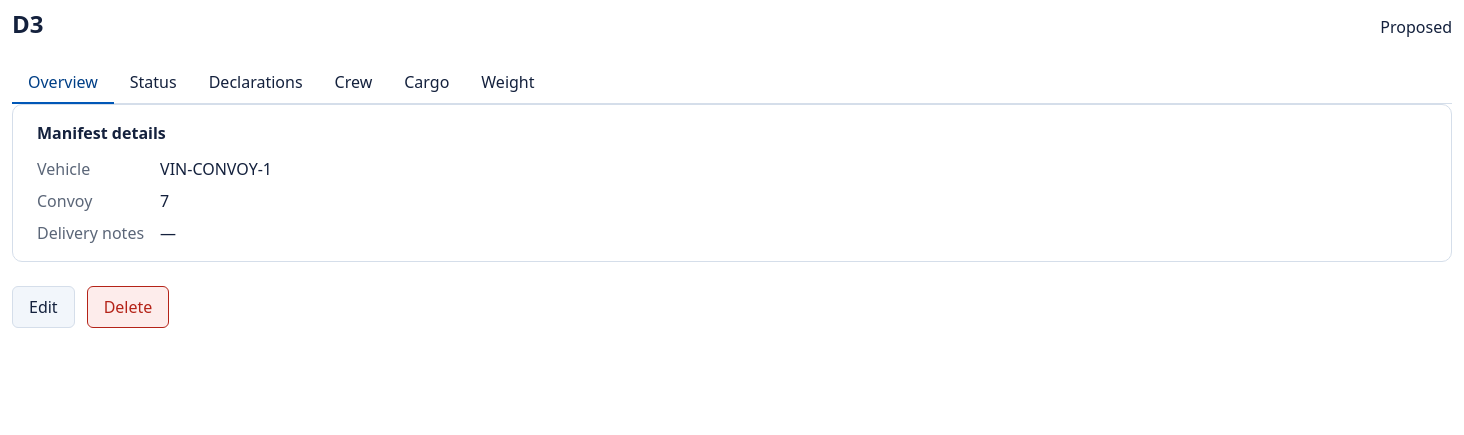
the tabs open the Status, Crew, Cargo and Weight panels
This screenshot has width=1464, height=435.
Click the tab "Status".
click(153, 83)  # box [114, 62, 193, 104]
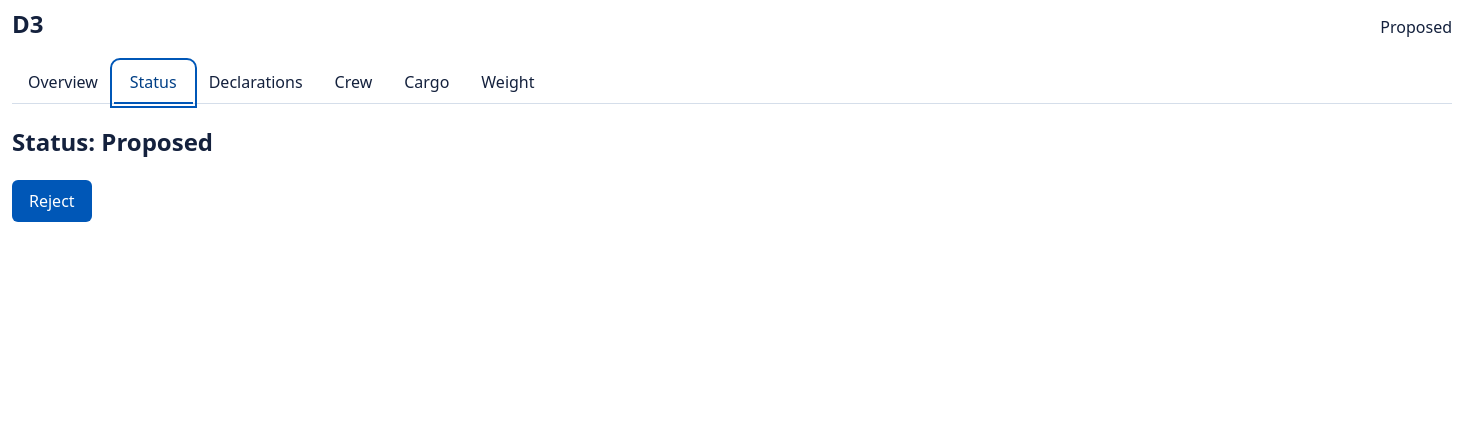
Result: the heading "Status: Proposed" is shown at [12, 125, 213, 158]
Click the tab "Crew".
click(353, 83)  # box [319, 62, 388, 104]
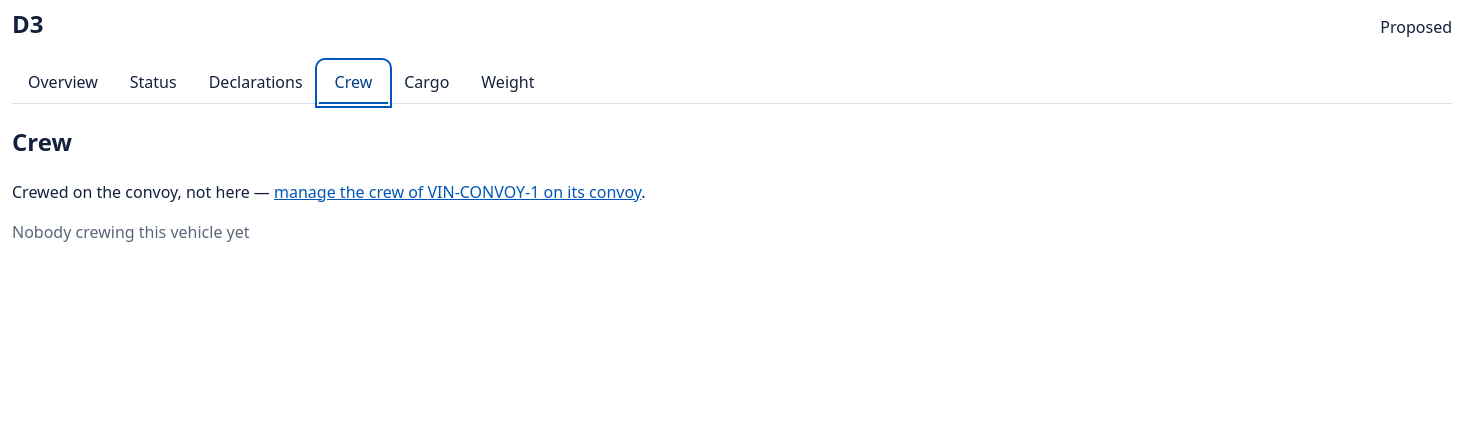
Result: the heading "Crew" is shown at [12, 125, 72, 158]
Click the tab "Cargo".
click(427, 83)  # box [388, 62, 465, 104]
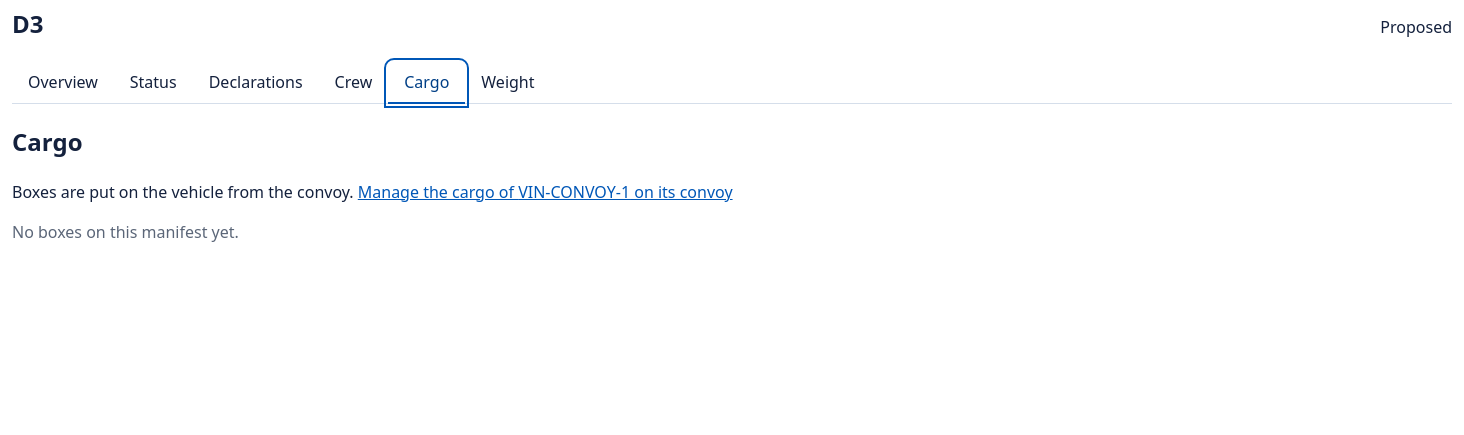
Result: the heading "Cargo" is shown at [12, 125, 82, 158]
Click the tab "Weight".
click(508, 83)  # box [465, 62, 550, 104]
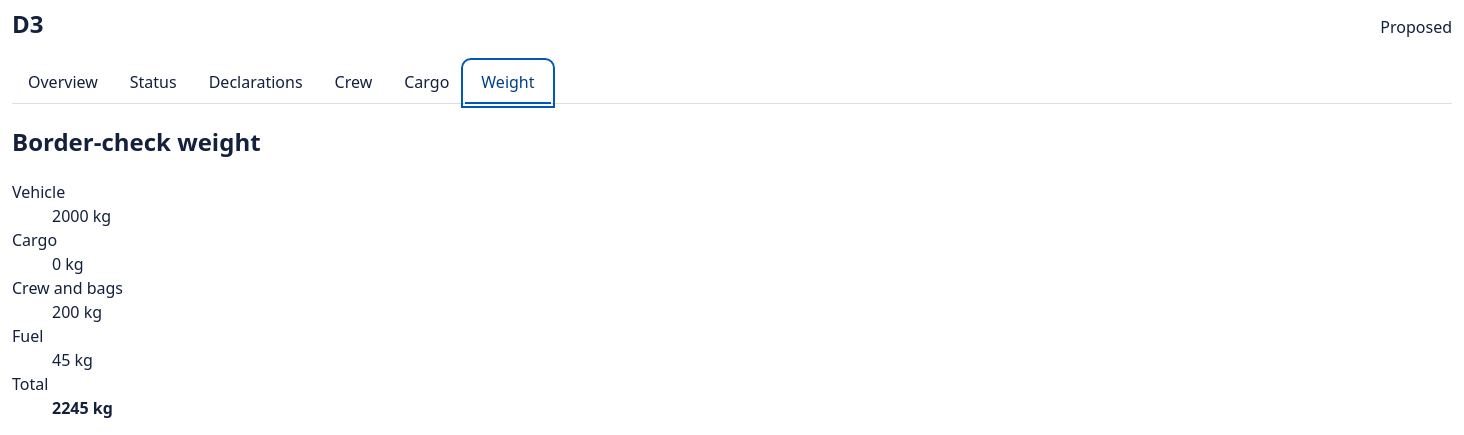
Result: the heading "Border-check weight" is shown at [12, 125, 261, 158]
